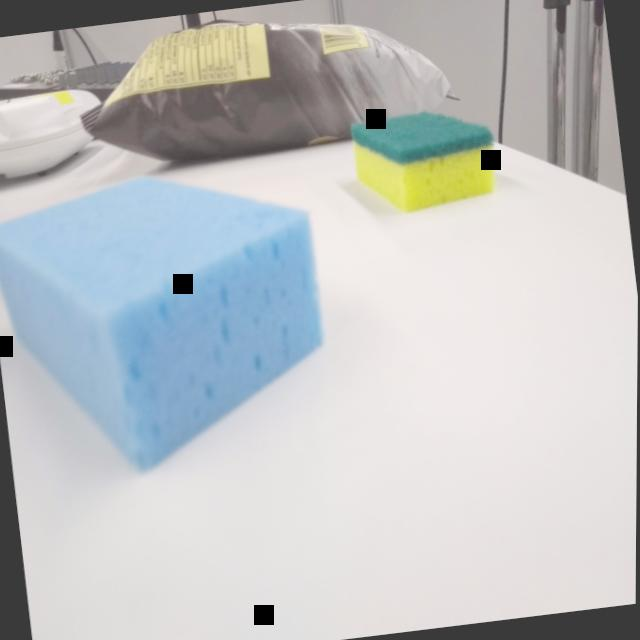potato_chips: (66, 0, 466, 186)
scrubby: (344, 101, 505, 226)
sponge_opl: (0, 150, 344, 495)
